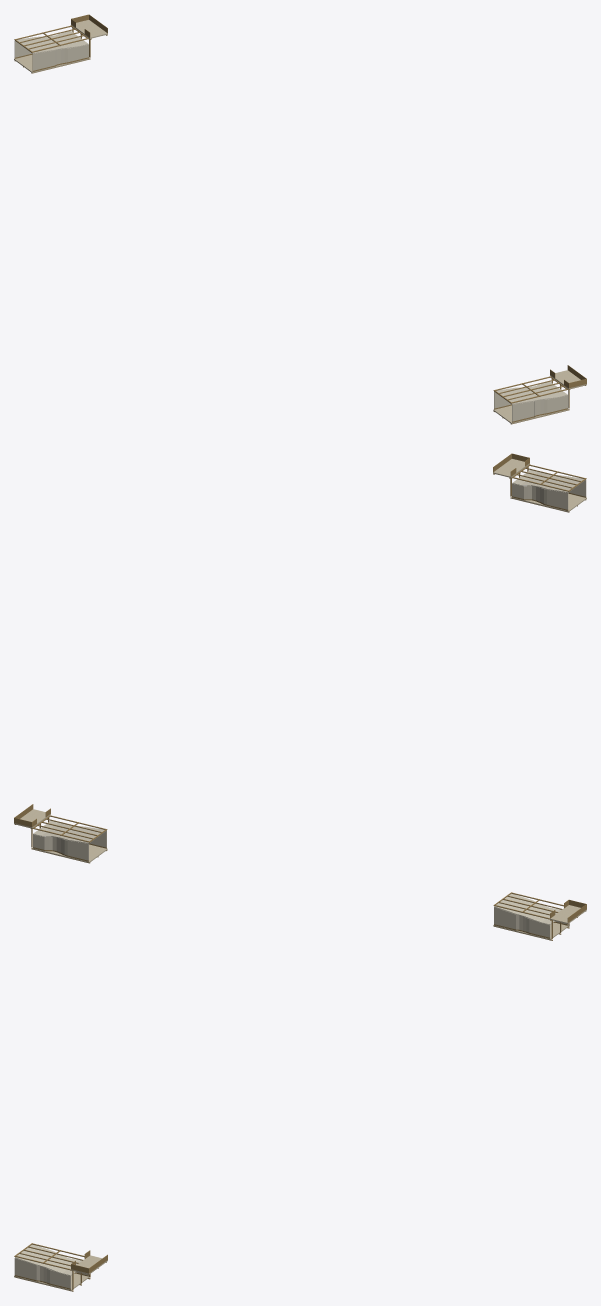
Rendered from StarAtlasSpecialtyEighthReceiving.glb.
3 views of the same model, one above another, from view 1: azimuth 30°, elevation 25°; view 2: azimuth 150°, elevation 25°; view 3: azimuth 330°, elevation 25° (orthographic).
Size of the model in its own units: 17 by 6 by 195.
6 materials, 6 textured.
